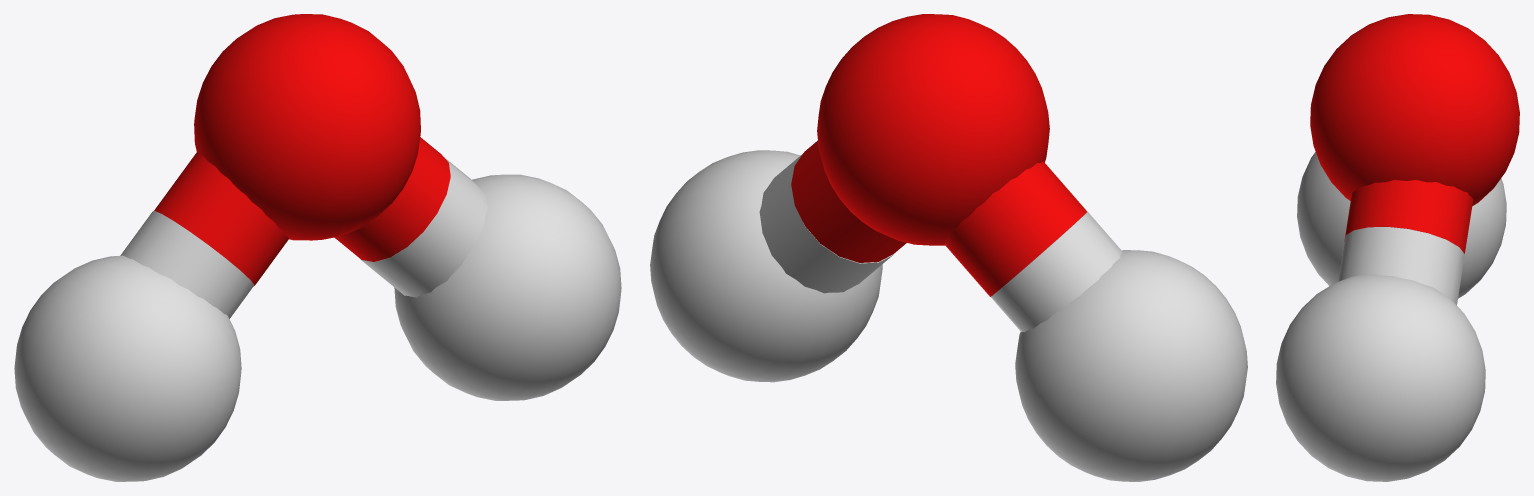
The model's file is uploads_files_2040702_water.FBX.
3 views of the same model, side by side, from view 1: azimuth 30°, elevation 25°; view 2: azimuth 150°, elevation 25°; view 3: azimuth 270°, elevation 25° (orthographic). The views are drawn at different scales.
Parts seen in each view (by area): view 1: Sphere017, Sphere016, Sphere018, Cylinder030, Cylinder032, Cylinder031, Cylinder033; view 2: Sphere016, Sphere017, Sphere018, Cylinder030, Cylinder031, Cylinder032, Cylinder033; view 3: Sphere018, Sphere016, Sphere017, Cylinder032, Cylinder033.
Boxes of the visible parts, bbox=[...] form: Sphere017: bbox=[14, 255, 241, 481]; Sphere016: bbox=[194, 14, 420, 240]; Sphere018: bbox=[394, 174, 621, 400]; Cylinder030: bbox=[154, 152, 289, 285]; Cylinder032: bbox=[359, 157, 487, 297]; Cylinder031: bbox=[120, 210, 254, 318]; Cylinder033: bbox=[334, 137, 450, 261]; Sphere016: bbox=[817, 14, 1049, 245]; Sphere017: bbox=[1015, 250, 1247, 481]; Sphere018: bbox=[650, 150, 882, 382]; Cylinder030: bbox=[944, 161, 1087, 296]; Cylinder031: bbox=[991, 212, 1122, 332]; Cylinder032: bbox=[759, 154, 894, 293]; Cylinder033: bbox=[791, 140, 906, 262]; Sphere018: bbox=[1276, 274, 1485, 481]; Sphere016: bbox=[1310, 14, 1519, 205]; Sphere017: bbox=[1297, 152, 1506, 298]; Cylinder032: bbox=[1338, 227, 1464, 305]; Cylinder033: bbox=[1344, 180, 1473, 253].
Size of the model in its own units: 45.46 by 30.5 by 18.43.
